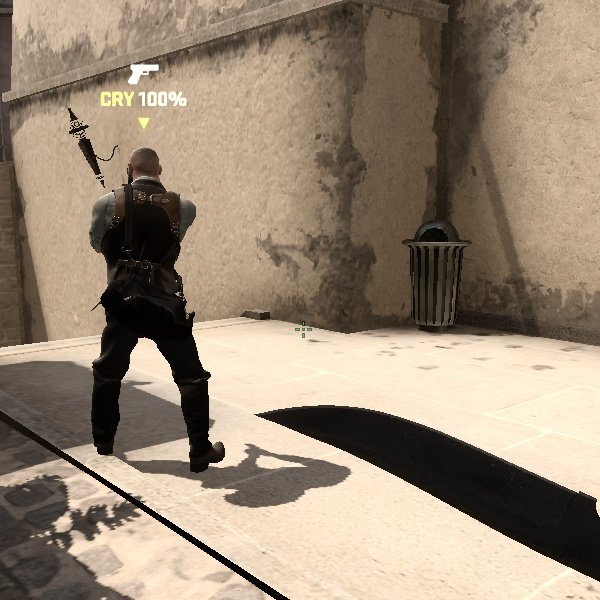t_body: (63, 136, 234, 479)
t_head: (114, 143, 177, 206)
